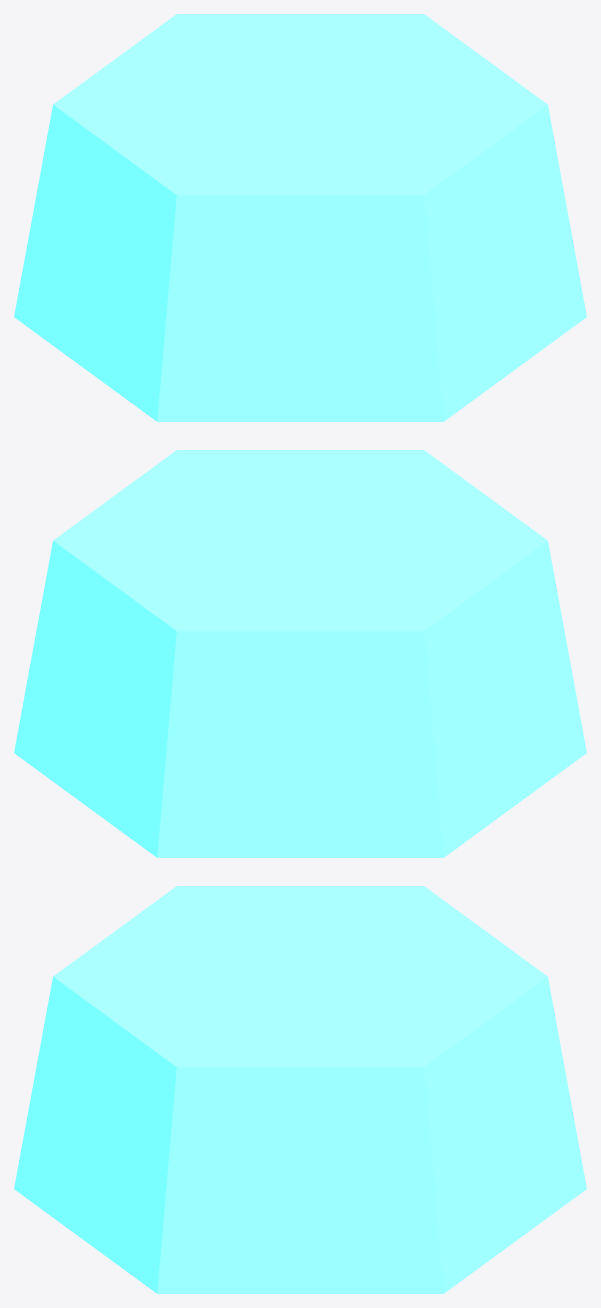
Rendered from debris_bolt.glb.
3 renders of one model, top to bottom at view 1: azimuth 30°, elevation 25°; view 2: azimuth 150°, elevation 25°; view 3: azimuth 270°, elevation 25°, orthographic.
Visible parts, largest first — view 1: body; view 2: body; view 3: body.
Boxes of the visible parts, left/top/right/bottom form: body: left=14, top=14, right=586, bottom=421; body: left=14, top=450, right=586, bottom=857; body: left=14, top=886, right=586, bottom=1293.
Size of the model in its own units: 0.0191 by 0.009 by 0.022.
